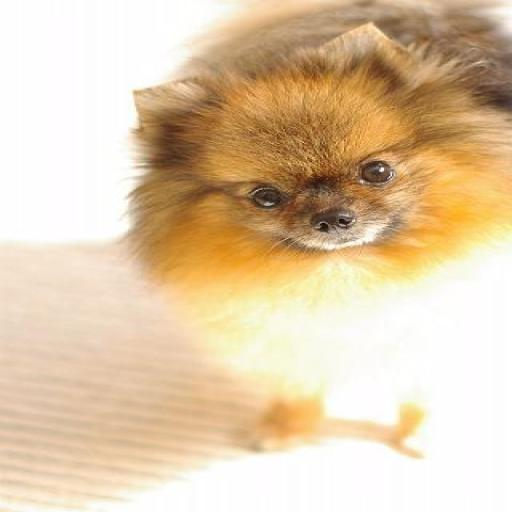dog_face: (133, 50, 438, 251)
